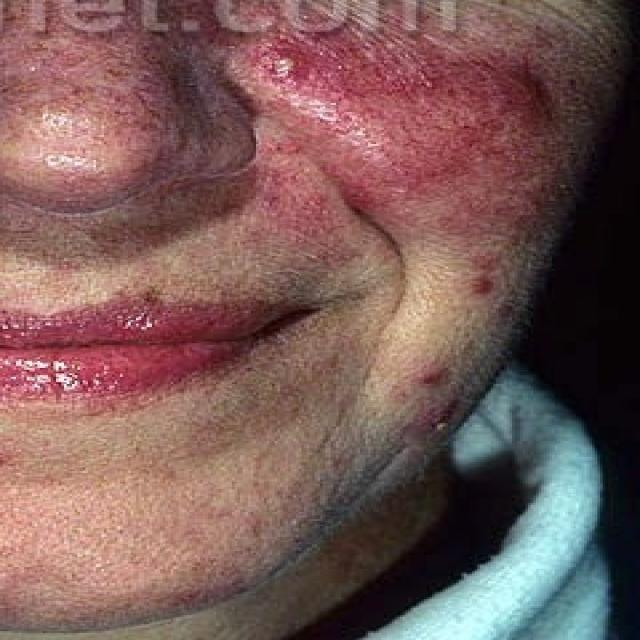Rosacea: (222, 28, 576, 151)
